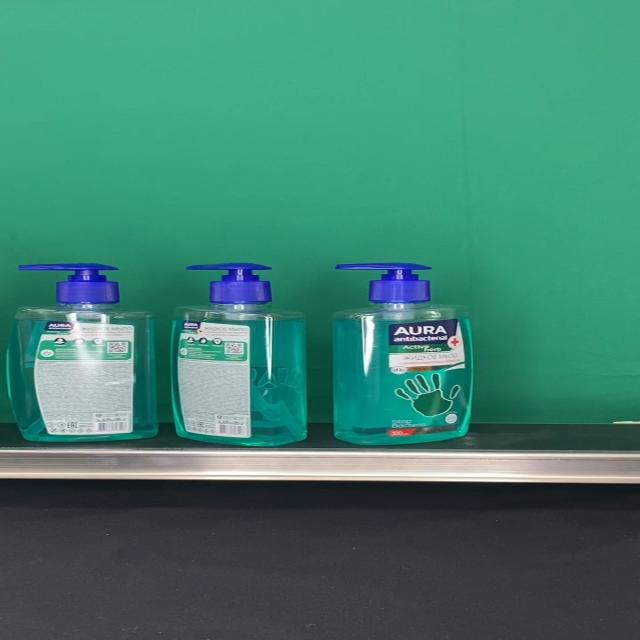Bottle: (7, 264, 158, 442), (335, 262, 474, 446), (171, 263, 307, 447)
Cap: (19, 263, 120, 304), (336, 262, 432, 304), (186, 263, 274, 305)
